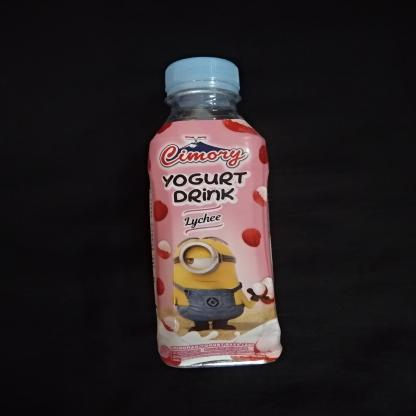plastic: (138, 54, 290, 371)
